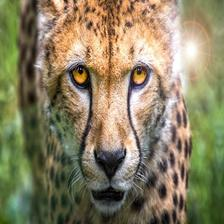Cheetah: (18, 0, 192, 222)
